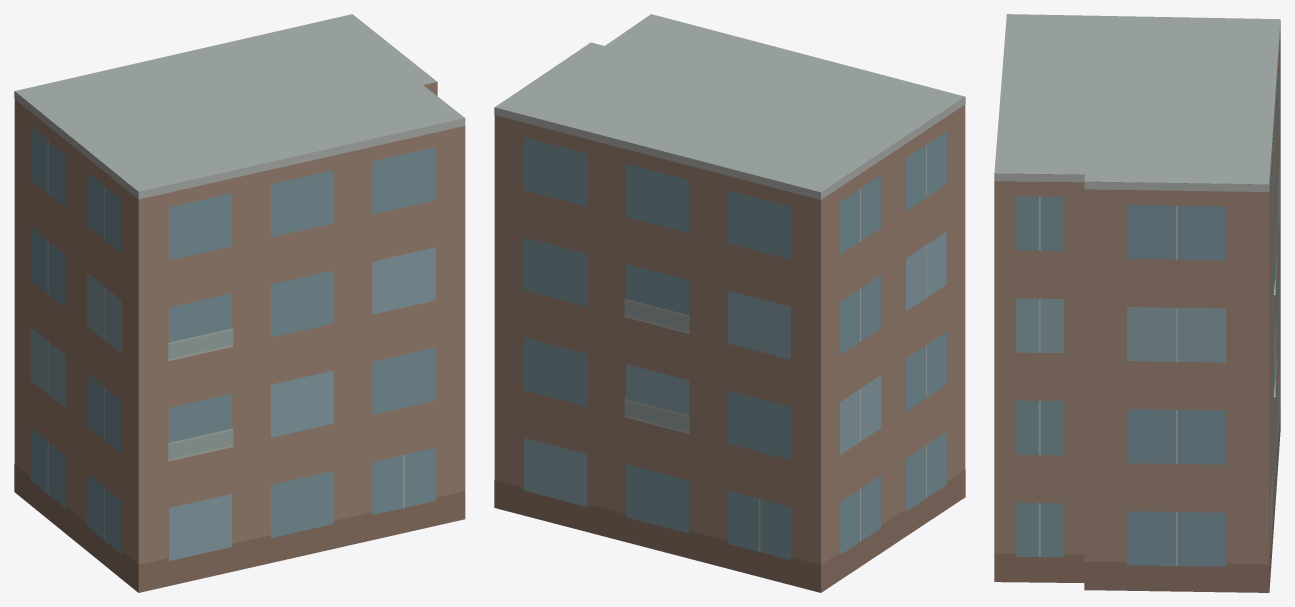
Rendered from survey-upis-32970270.glb.
3 views of the same model, side by side, from view 1: azimuth 30°, elevation 25°; view 2: azimuth 150°, elevation 25°; view 3: azimuth 270°, elevation 25° (orthographic).
Parts seen in each view (by area): view 1: survey-upis-32970270.tmp; view 2: survey-upis-32970270.tmp; view 3: survey-upis-32970270.tmp.
Part boxes in pixels (left/top/right/bottom): survey-upis-32970270.tmp: left=14, top=14, right=465, bottom=592; survey-upis-32970270.tmp: left=494, top=14, right=965, bottom=592; survey-upis-32970270.tmp: left=994, top=14, right=1280, bottom=592.
Size of the model in its own units: 11.46 by 12.8 by 8.14.
